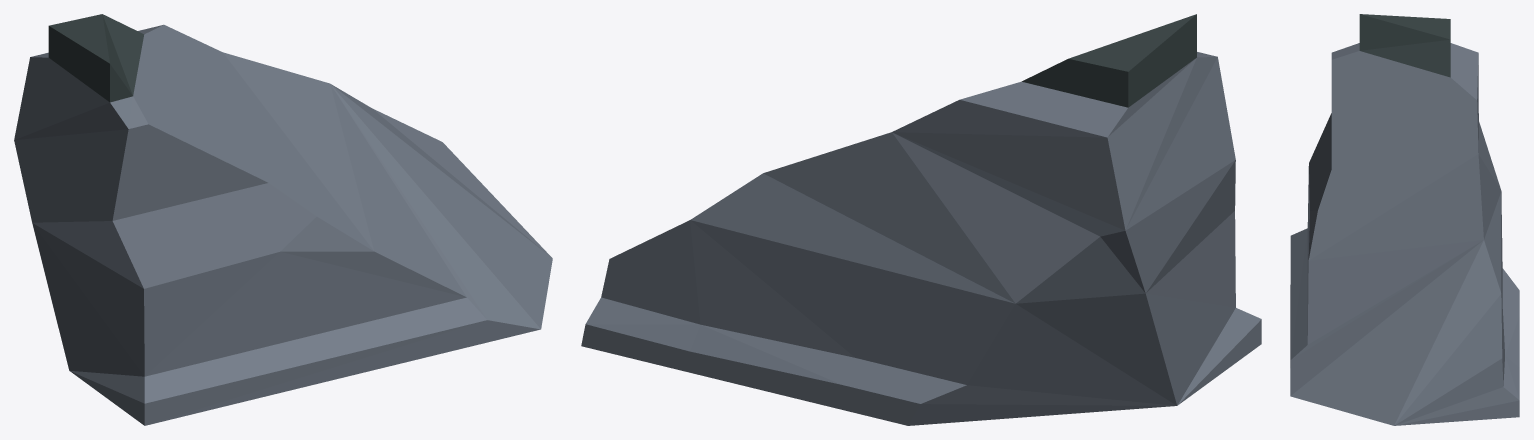
Rendered from WallPiece8.fbx.
3 views of the same model, side by side, from view 1: azimuth 30°, elevation 25°; view 2: azimuth 150°, elevation 25°; view 3: azimuth 270°, elevation 25° (orthographic). The views are drawn at different scales.
Parts seen in each view (by area): view 1: WallPiece8; view 2: WallPiece8; view 3: WallPiece8.
Boxes of the visible parts, x1,y1,x2,y2 form: WallPiece8: (14,14,552,425); WallPiece8: (581,14,1261,425); WallPiece8: (1290,14,1519,425).
Bounding box in the file's own units: 217 × 140 × 120.
